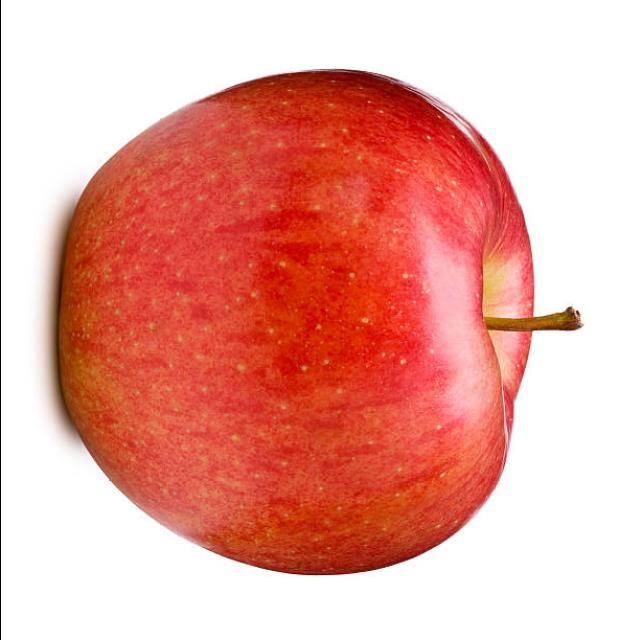apple: (51, 66, 541, 580)
